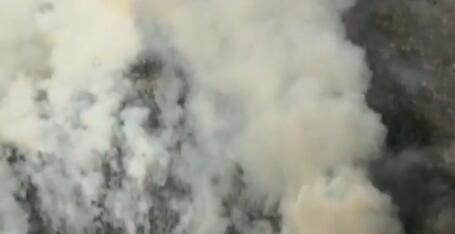yanwu: (0, 0, 400, 233)
